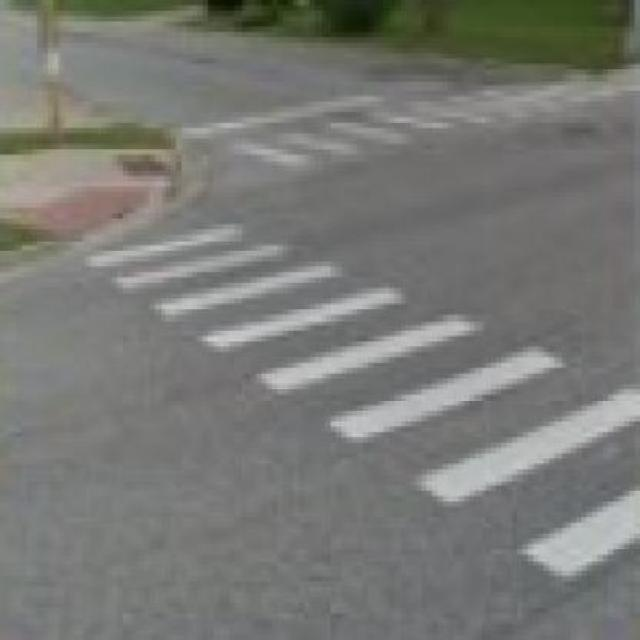crosswalk: (80, 223, 640, 585)
